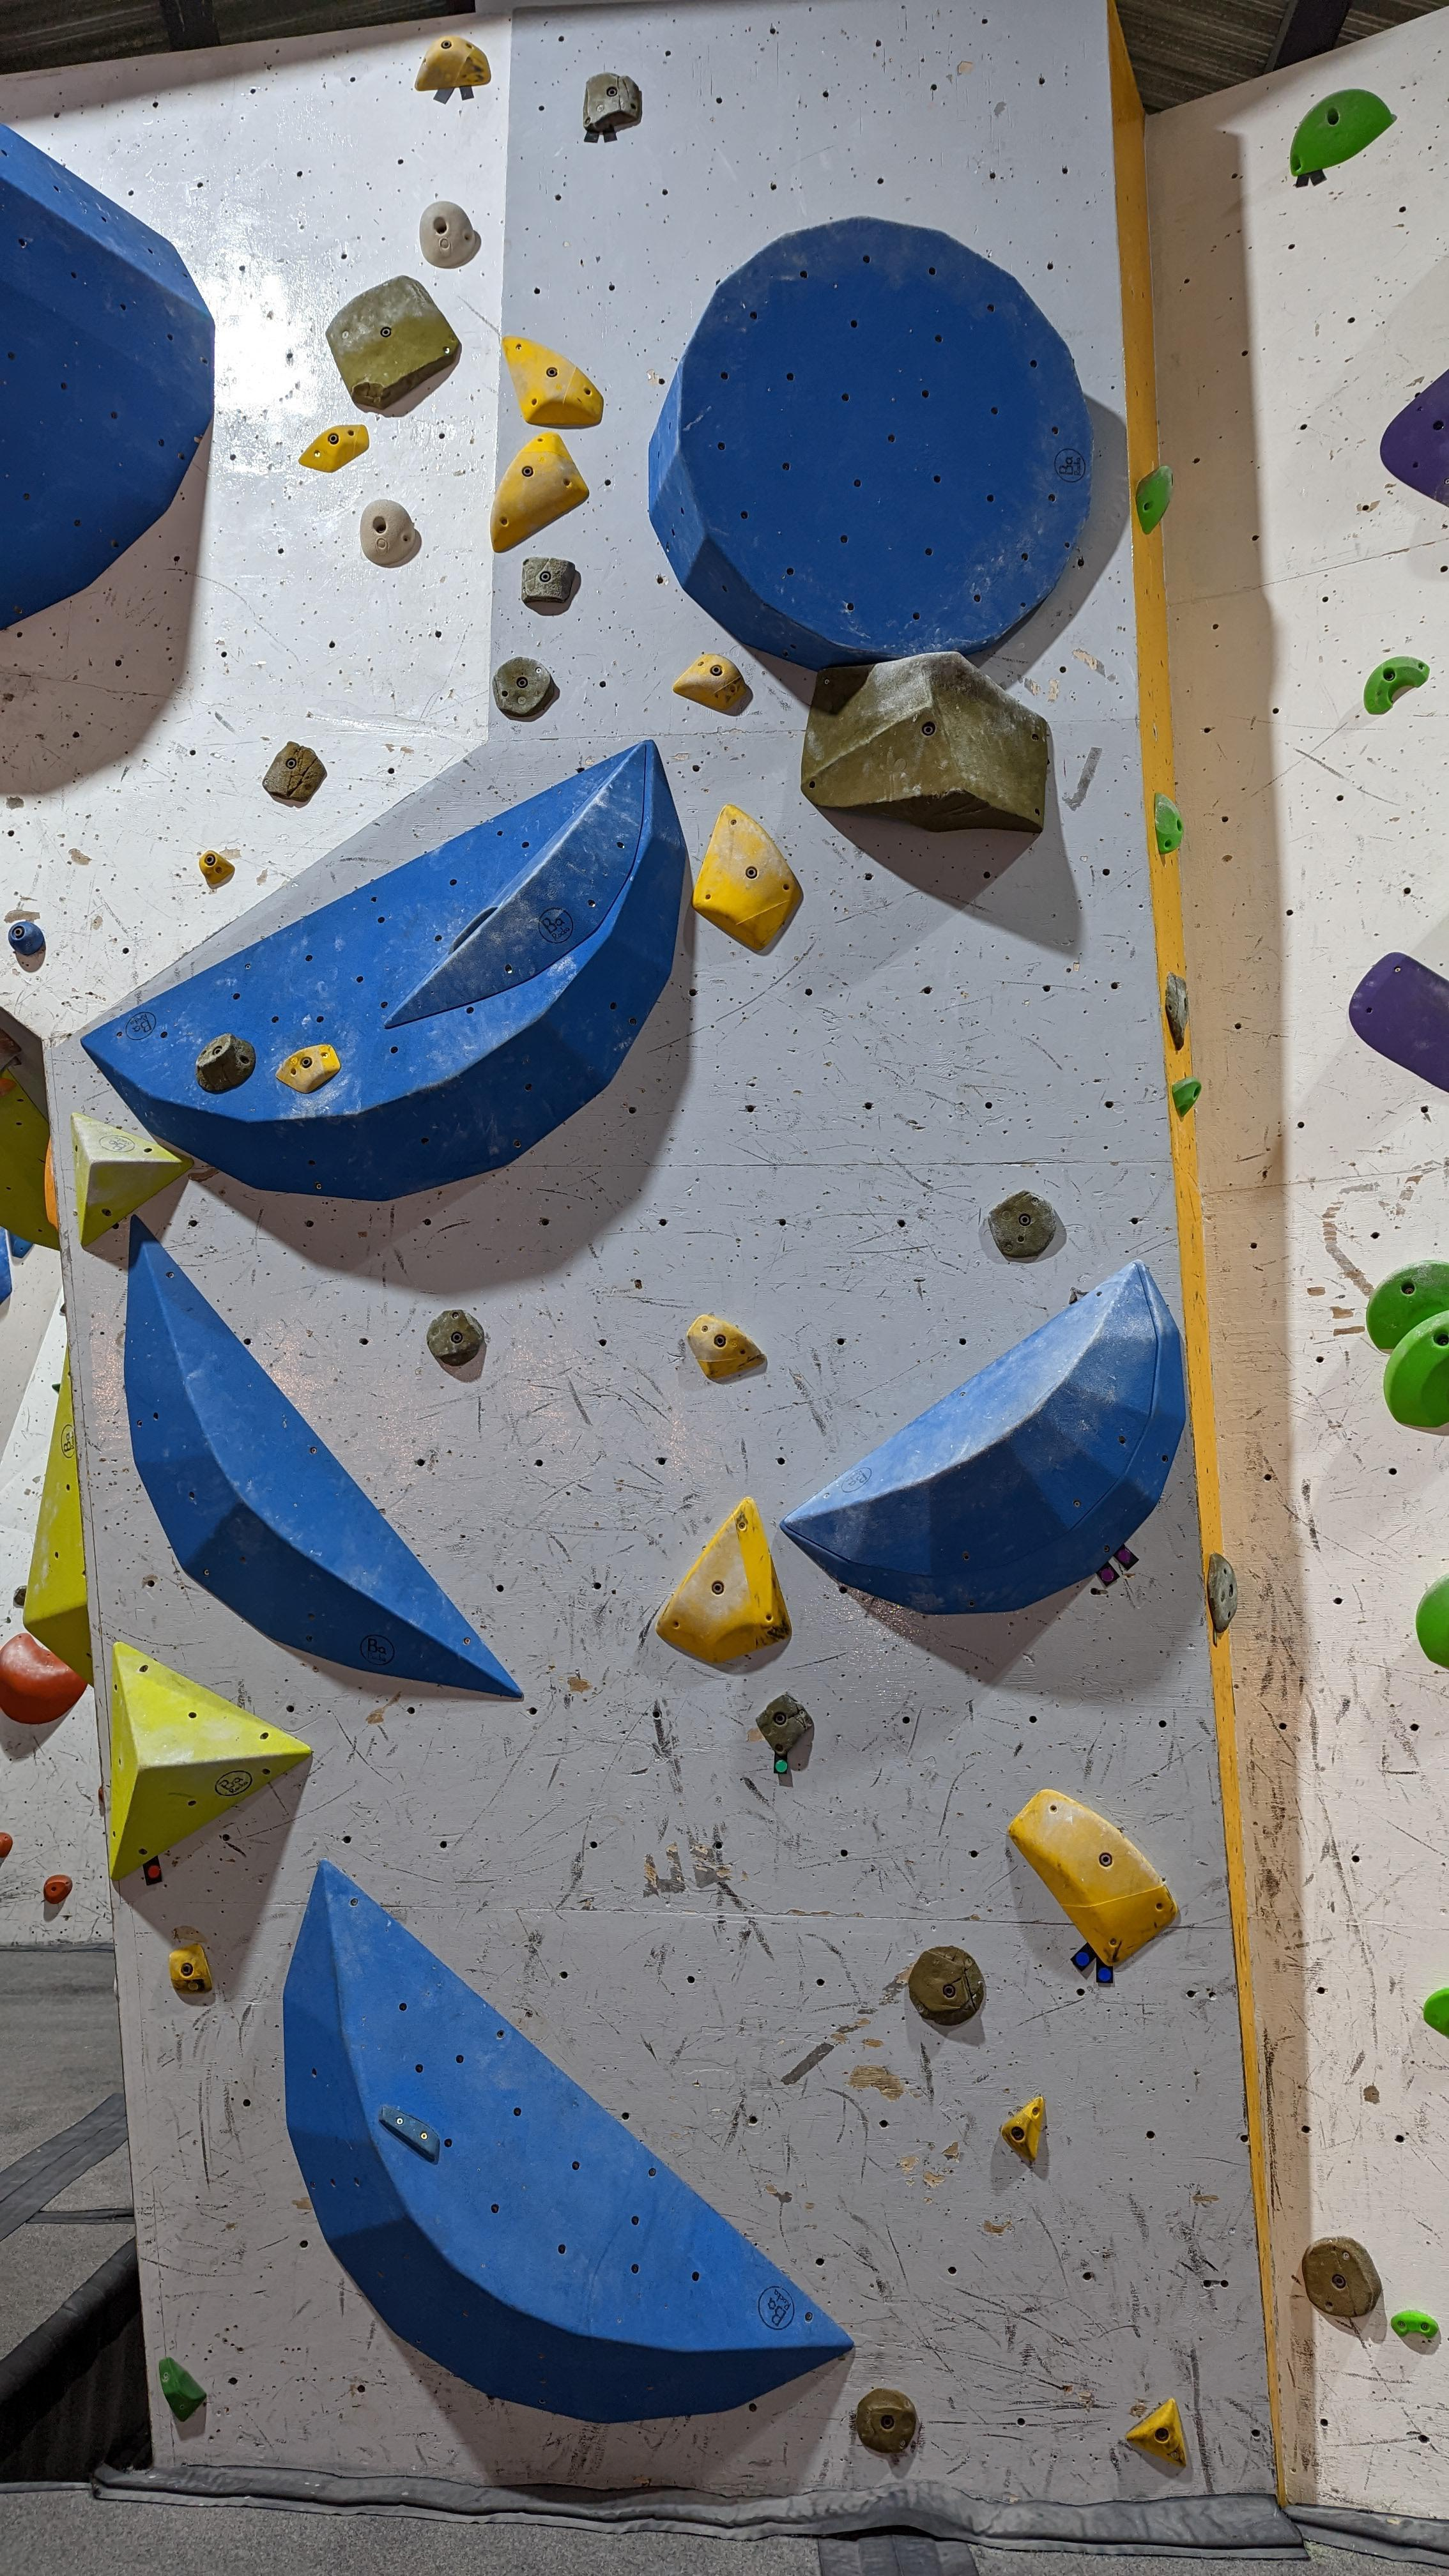hold: (283, 1859, 855, 2424), (80, 740, 686, 1201), (648, 216, 1093, 672), (124, 1215, 524, 1698), (778, 1260, 1185, 1614), (0, 122, 216, 630), (384, 743, 646, 1030), (110, 1640, 313, 1881), (800, 651, 1047, 833), (1007, 1789, 1178, 1966), (23, 1343, 94, 1688), (655, 1497, 791, 1663), (326, 276, 460, 410), (71, 1111, 195, 1247), (692, 803, 803, 950), (1350, 952, 1449, 1092), (490, 432, 589, 554), (1380, 368, 1449, 508), (501, 336, 603, 426), (1290, 88, 1394, 177), (0, 1633, 88, 1725), (1384, 1309, 1449, 1428), (1366, 1260, 1449, 1350), (1302, 2236, 1382, 2316), (909, 1946, 985, 2026), (686, 1315, 766, 1380), (987, 1189, 1058, 1258), (1125, 2397, 1187, 2468), (672, 653, 747, 711), (414, 35, 492, 90), (492, 656, 554, 718), (262, 741, 326, 801), (856, 2388, 915, 2452), (1364, 656, 1430, 713), (359, 499, 416, 564), (419, 202, 476, 267), (755, 1695, 814, 1757), (195, 1033, 255, 1092), (584, 73, 642, 133), (379, 2105, 439, 2162), (297, 425, 368, 472), (426, 1309, 485, 1366), (1415, 1571, 1449, 1668), (276, 1044, 341, 1093), (159, 2357, 207, 2420), (1001, 2097, 1044, 2160), (1136, 465, 1175, 534), (448, 906, 497, 955), (1207, 1552, 1237, 1633), (522, 557, 575, 603), (168, 1943, 212, 1994), (1164, 971, 1189, 1051), (1154, 793, 1184, 855), (1422, 1987, 1449, 2038), (1391, 2311, 1438, 2339), (44, 1136, 58, 1231), (198, 849, 235, 885), (7, 922, 44, 955), (1171, 1077, 1201, 1116), (0, 1028, 23, 1072), (0, 1226, 12, 1306), (44, 1875, 73, 1904), (7, 1231, 34, 1258), (0, 1077, 16, 1097), (0, 1833, 12, 1858), (14, 1585, 27, 1605)
